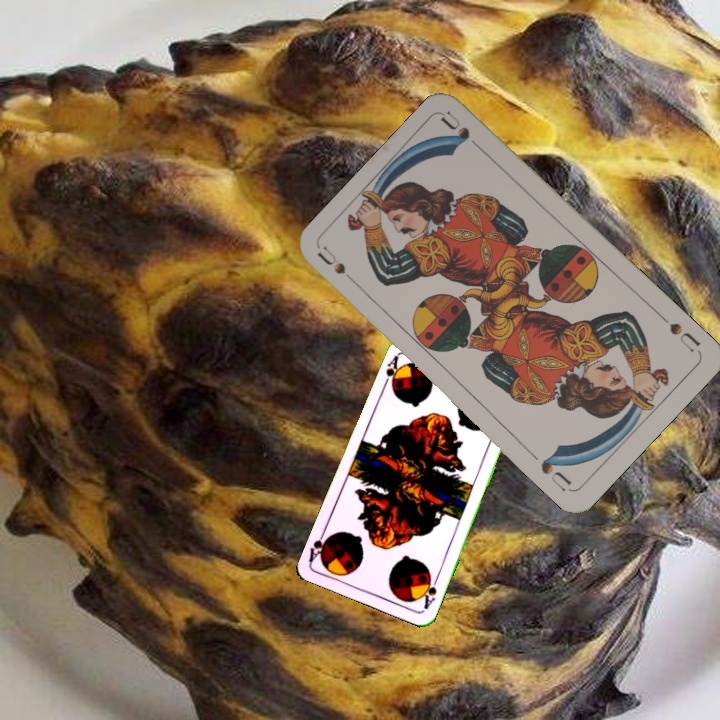SA: (417, 571, 441, 612), (379, 352, 403, 392)
SU: (314, 242, 364, 291), (655, 310, 703, 355)
